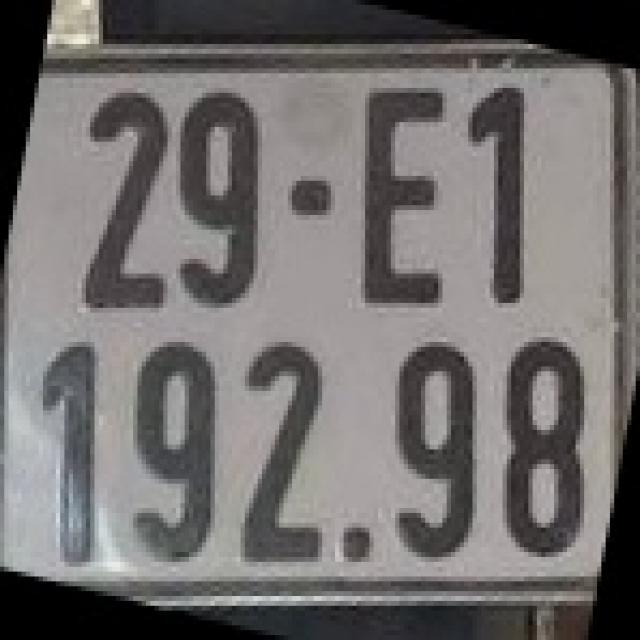1: (464, 73, 542, 308), (29, 337, 108, 567)
2: (73, 78, 172, 313), (236, 332, 331, 567)
8: (498, 327, 593, 557)
9: (120, 332, 224, 567), (172, 83, 270, 313), (386, 332, 482, 562)
E: (356, 73, 452, 313)
